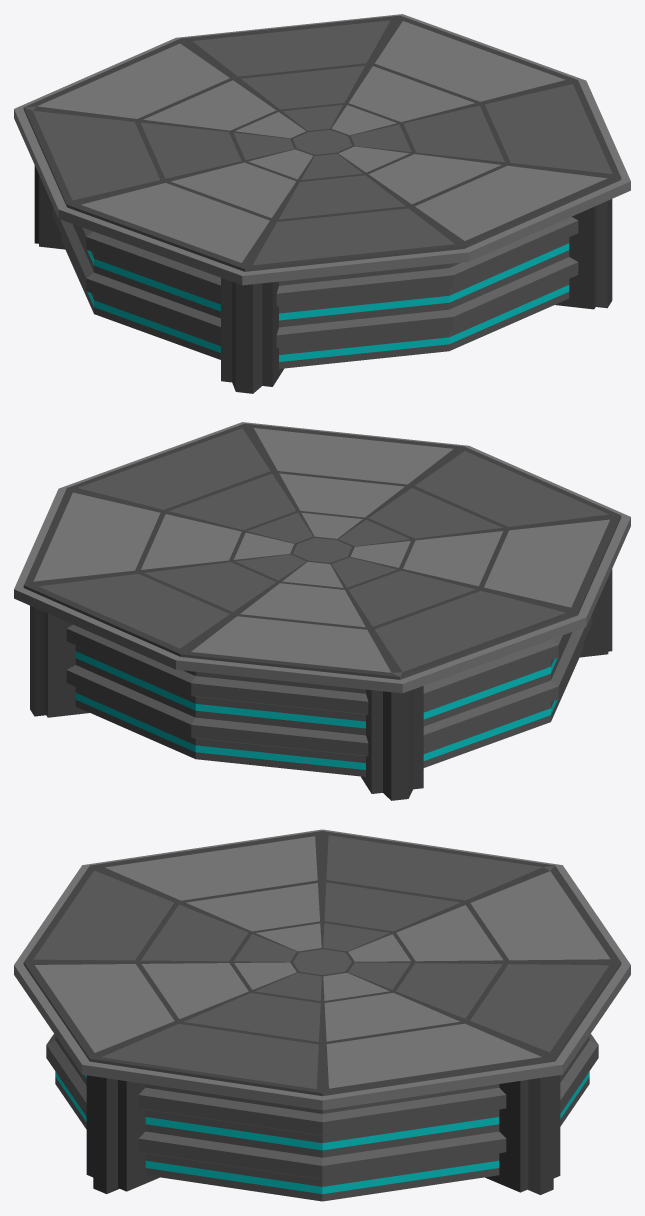
File: Factory_Platform_Large.fbx
3 renders of one model, top to bottom at view 1: azimuth 30°, elevation 25°; view 2: azimuth 150°, elevation 25°; view 3: azimuth 270°, elevation 25°, orthographic. The views are drawn at different scales.
Parts seen in each view (by area): view 1: Factory Platform Large; view 2: Factory Platform Large; view 3: Factory Platform Large.
Boxes of the visible parts, x1,y1,x2,y2 form: Factory Platform Large: (14, 14, 630, 393); Factory Platform Large: (14, 422, 630, 800); Factory Platform Large: (14, 829, 630, 1201).
Bounding box in the file's own units: 20436 × 4781 × 19657.
